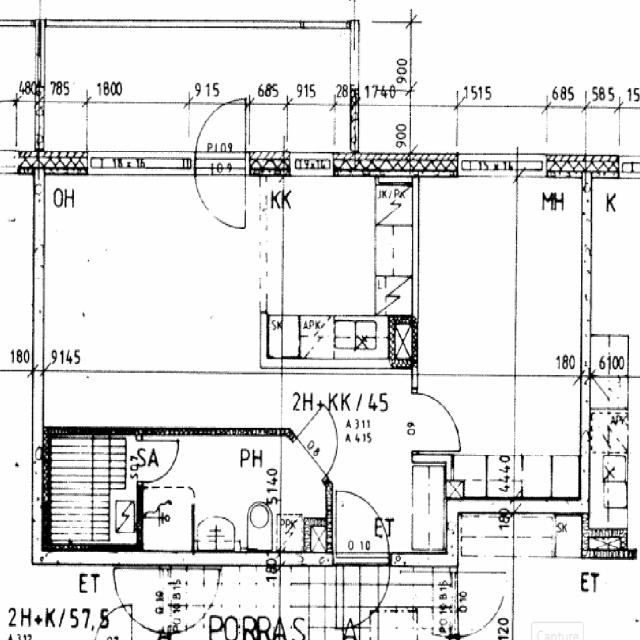door: (292, 402, 354, 479), (196, 150, 245, 237), (337, 550, 390, 630), (337, 484, 390, 564), (196, 89, 245, 174), (411, 392, 464, 450), (136, 440, 176, 483)
